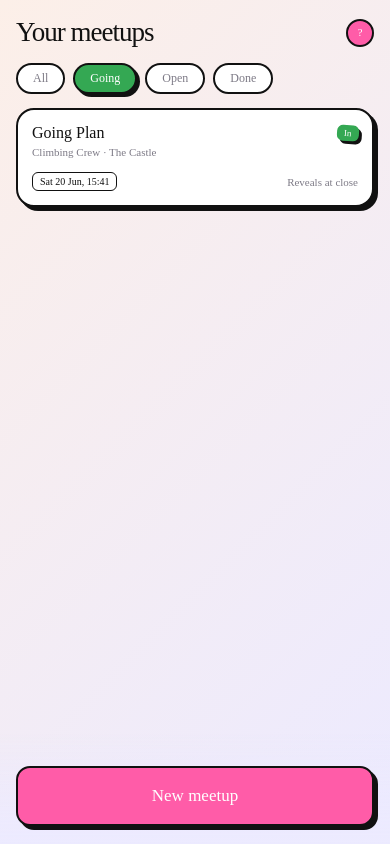
Test: Dashboard - Going / Open / Done filter › switching to Open shows only the open-bucket plan
Check: the text "Going Plan" is shown, box [32,124,104,142]
Click the text "Open" at (175,78), box [162,71,188,86]
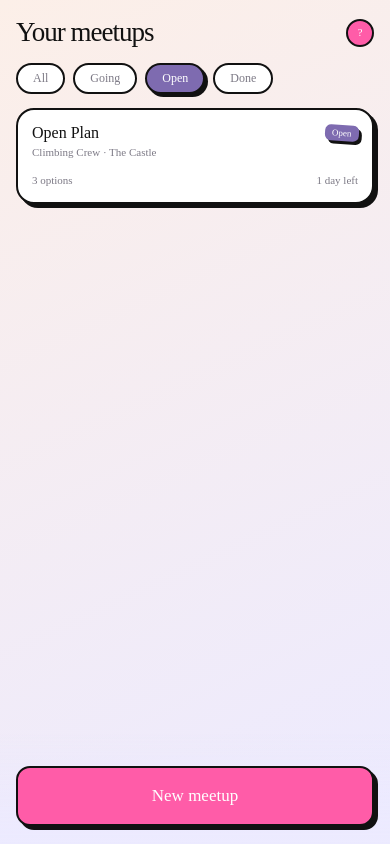
Check: the text "Open Plan" is shown, box [32,124,99,142]
Check: the text "Going Plan" is gone
